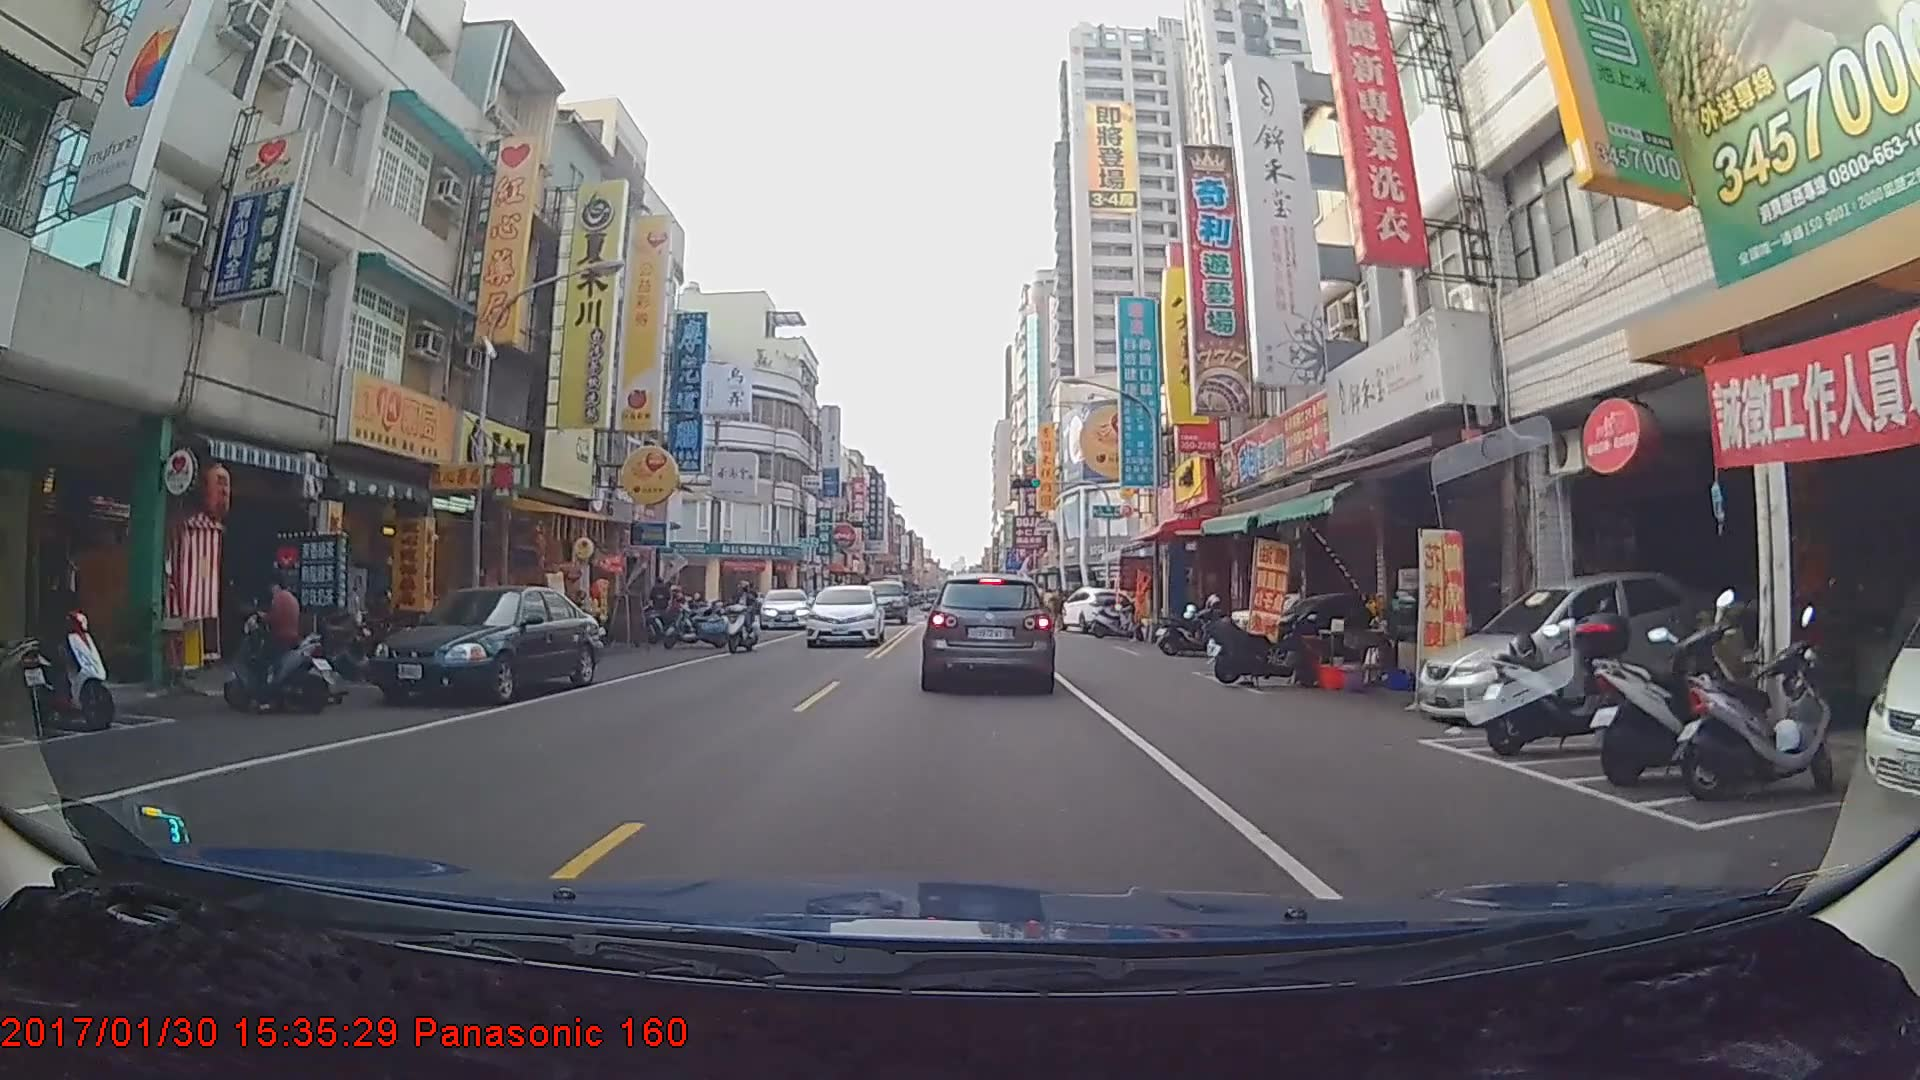pedestrian: (1048, 588, 1068, 637)
rider: (224, 568, 343, 719), (720, 583, 765, 656)
vehicle: (370, 585, 604, 701), (923, 572, 1052, 691), (804, 577, 882, 643), (1056, 583, 1139, 634), (757, 585, 813, 629), (859, 577, 907, 623)
